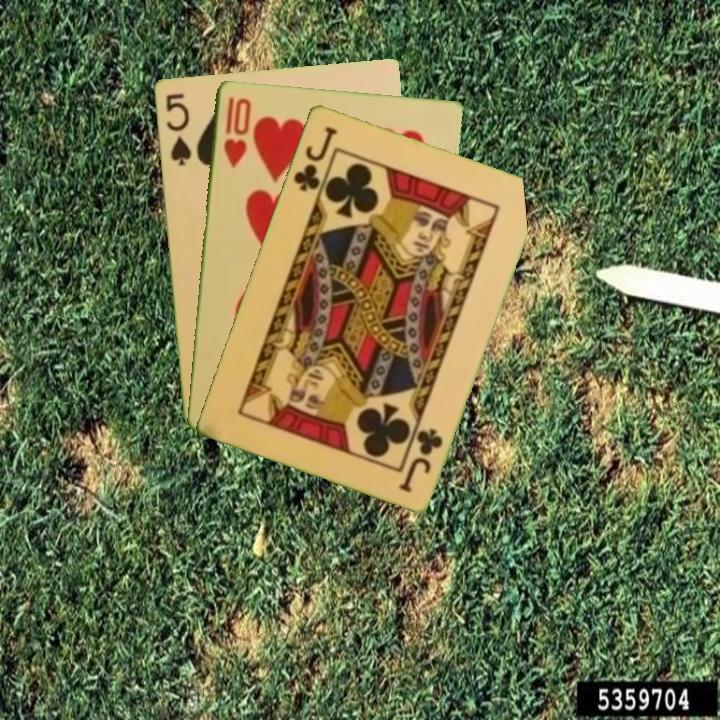10h: (220, 93, 253, 170)
5s: (161, 89, 194, 168)
Jc: (289, 122, 340, 194), (395, 424, 446, 495)
